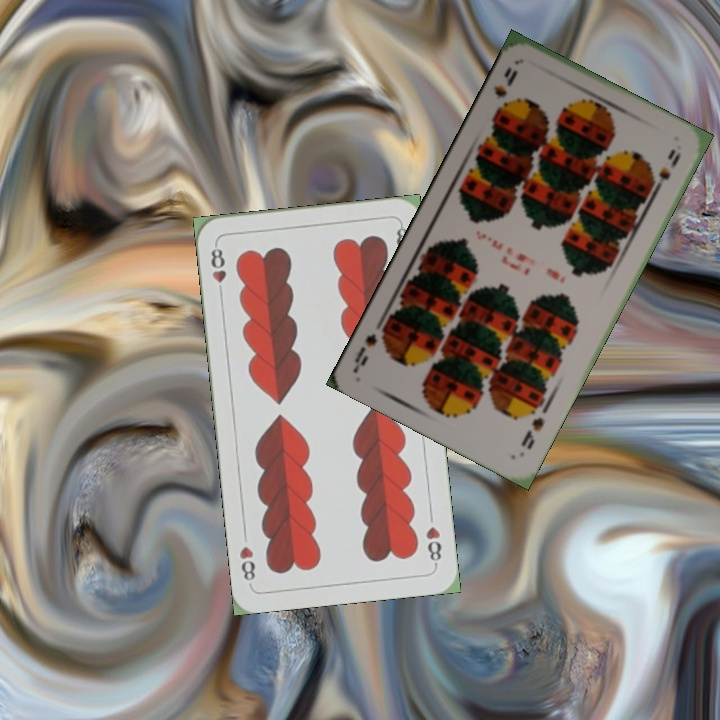H8: (207, 240, 229, 299), (421, 522, 444, 568)
S9: (489, 62, 520, 116), (517, 413, 547, 452)
